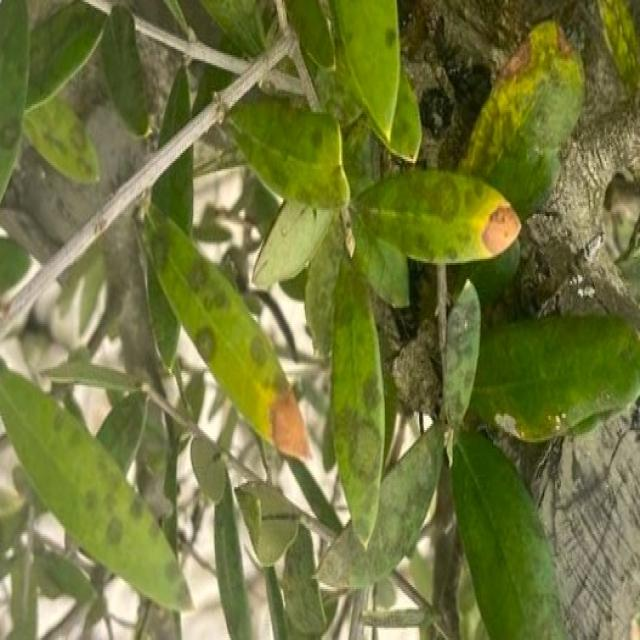Peacock Eye: (0, 363, 191, 609), (146, 204, 308, 459), (461, 20, 584, 198), (356, 169, 522, 263), (332, 263, 385, 542), (228, 94, 349, 208), (23, 100, 98, 181)
